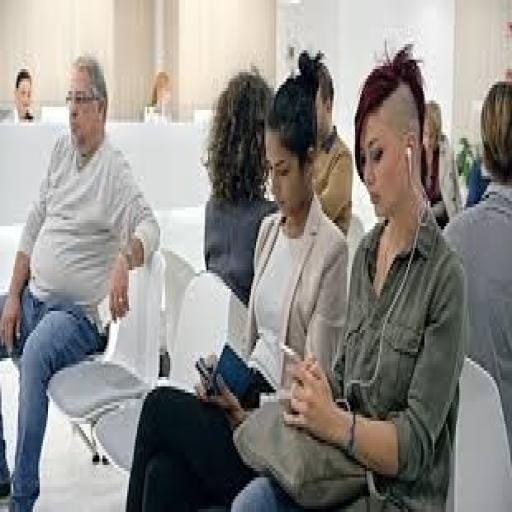sitting: (2, 38, 507, 506), (230, 41, 469, 509), (124, 50, 350, 509), (0, 50, 160, 509), (441, 76, 510, 458)
